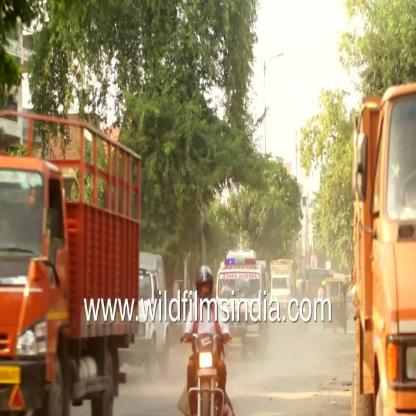bike: (176, 268, 234, 416)
priority: (215, 247, 267, 288)
truck: (0, 93, 160, 416)
